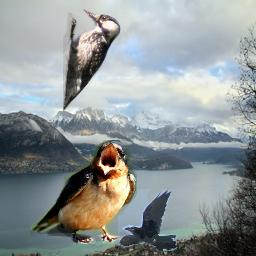Crow: (118, 189, 177, 251)
Swallow: (30, 140, 137, 244)
Woodpecker: (63, 8, 121, 116)
